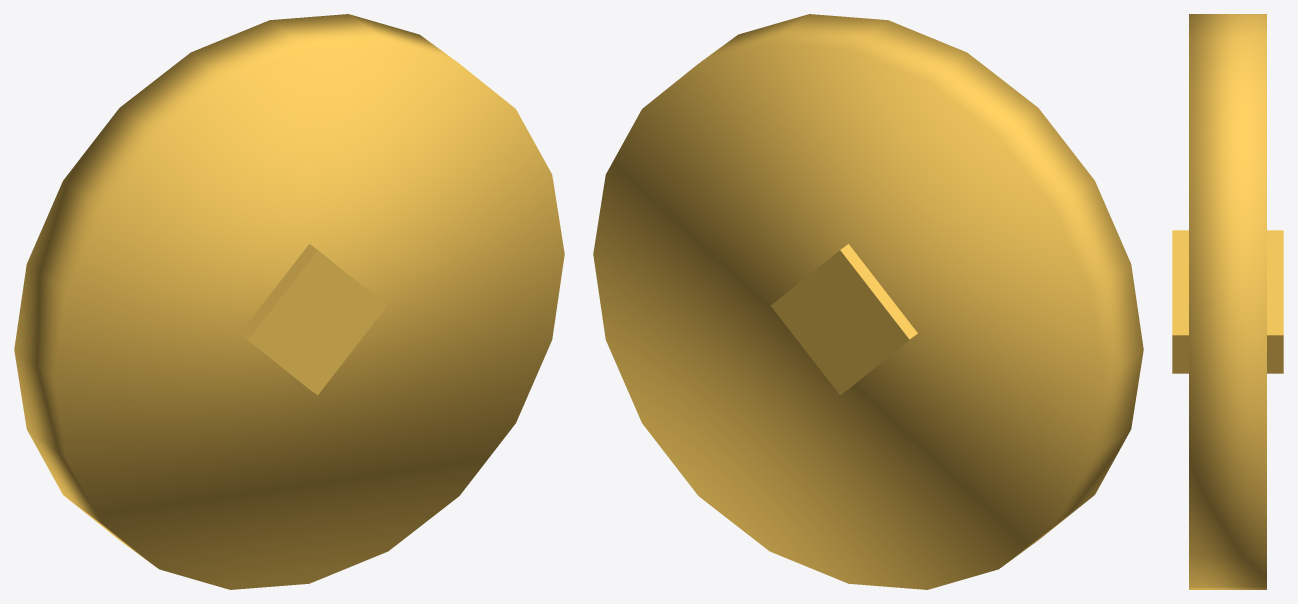
The model's file is coin.glb.
3 views of the same model, side by side, from view 1: azimuth 30°, elevation 25°; view 2: azimuth 150°, elevation 25°; view 3: azimuth 270°, elevation 25° (orthographic).
Visible parts, largest first — view 1: Body; view 2: Body; view 3: Body.
Part boxes in pixels (box(x1,y1,x2,y2)): Body: box(14, 14, 564, 589); Body: box(593, 14, 1143, 589); Body: box(1172, 14, 1283, 589).
Size of the model in its own units: 0.26 by 0.26 by 0.05.
